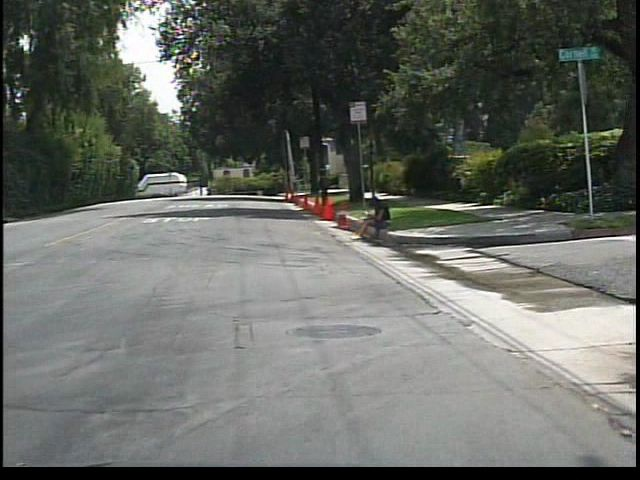person: (348, 192, 401, 245)
